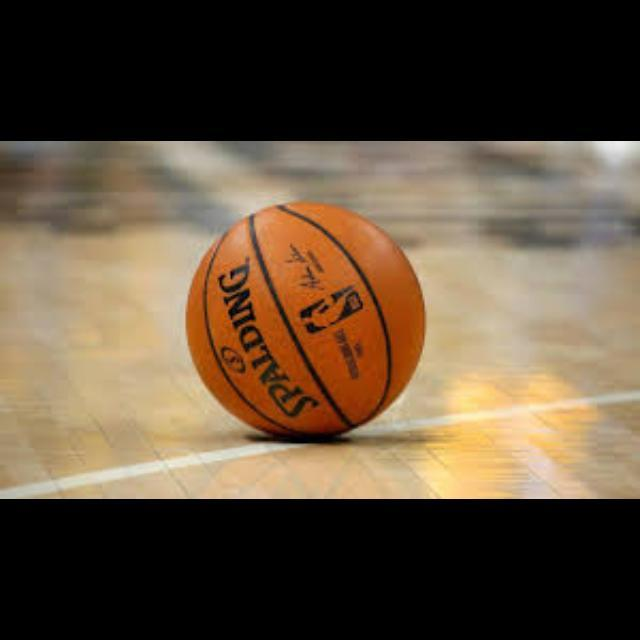basketball: (187, 203, 425, 435)
